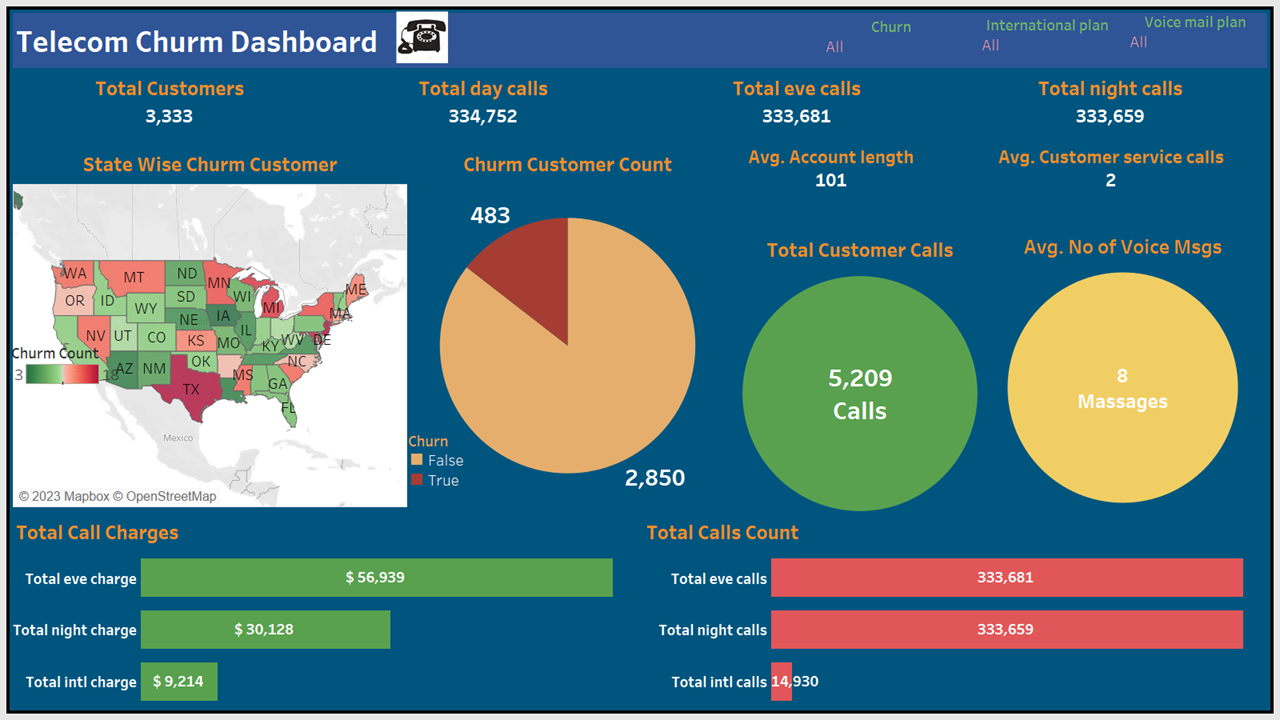

This screenshot's page, from the dashboard's own definition file:
{"tool":"tableau","page":{"name":"Dashboard ","canvas":[1600,900],"ordinal":0},"visuals":[{"type":"title","box":[12,12,1576,77]},{"type":"filter","title":"Churm Customer Count","param":"[federated.0cdc8kr0nxqdw3128jg0j01th0x3].[none:Voice mail plan:nk]","box":[1410,13,168,121]},{"type":"image","param":"C:/Users/Windows/Downloads/pngtree-phone-icon-on-white-background-png-image_8016","box":[484,14,87,65]},{"type":"filter","title":"Churm Customer Count","param":"[federated.0cdc8kr0nxqdw3128jg0j01th0x3].[none:International plan:nk]","box":[1225,17,168,114]},{"type":"filter","title":"Churm Customer Count","param":"[federated.0cdc8kr0nxqdw3128jg0j01th0x3].[none:Churn:nk]","box":[1030,19,168,121]},{"type":"worksheet","title":"KPI","mark":"Automatic","box":[12,89,1576,80]},{"type":"worksheet","title":"Average ","mark":"Automatic","box":[864,170,700,86]},{"type":"worksheet","title":"State Wise Churm Customer","mark":"Multipolygon","box":[12,178,501,460]},{"type":"worksheet","title":"Churm Customer Count","mark":"Pie","box":[513,178,393,460]},{"type":"blank","box":[906,178,682,460]},{"type":"worksheet","title":"Avg. No of Voice Msgs","mark":"Circle","box":[1221,285,365,351]},{"type":"worksheet","title":"Total Customer Calls ","mark":"Circle","box":[890,289,370,357]},{"type":"legend","title":"State Wise Churm Customer","param":"[federated.0cdc8kr0nxqdw3128jg0j01th0x3].[sum:Calculation_1300977343331741696:qk","box":[14,424,140,100]},{"type":"legend","title":"Churm Customer Count","param":"[federated.0cdc8kr0nxqdw3128jg0j01th0x3].[none:Churn:nk]","box":[509,536,212,99]},{"type":"worksheet","title":"Total Call Charges","mark":"Automatic","box":[12,638,788,250]},{"type":"worksheet","title":"Total calls count","mark":"Automatic","box":[800,638,788,250]}]}

Visuals, with their boxes in screenshot pixels (x1, y1, x2, y2), scaled from the page's 1600x900 canvas onto the 1280x720 screenshot:
title: Rect(10, 10, 1270, 71)
"Churm Customer Count" filter: Rect(1128, 10, 1262, 107)
image: Rect(387, 11, 457, 63)
"Churm Customer Count" filter: Rect(980, 14, 1114, 105)
"Churm Customer Count" filter: Rect(824, 15, 958, 112)
"KPI" worksheet: Rect(10, 71, 1270, 135)
"Average " worksheet: Rect(691, 136, 1251, 205)
"State Wise Churm Customer" worksheet (Multipolygon marks): Rect(10, 142, 410, 510)
"Churm Customer Count" worksheet (Pie marks): Rect(410, 142, 725, 510)
blank: Rect(725, 142, 1270, 510)
"Avg. No of Voice Msgs" worksheet (Circle marks): Rect(977, 228, 1269, 509)
"Total Customer Calls " worksheet (Circle marks): Rect(712, 231, 1008, 517)
"State Wise Churm Customer" legend: Rect(11, 339, 123, 419)
"Churm Customer Count" legend: Rect(407, 429, 577, 508)
"Total Call Charges" worksheet: Rect(10, 510, 640, 710)
"Total calls count" worksheet: Rect(640, 510, 1270, 710)
